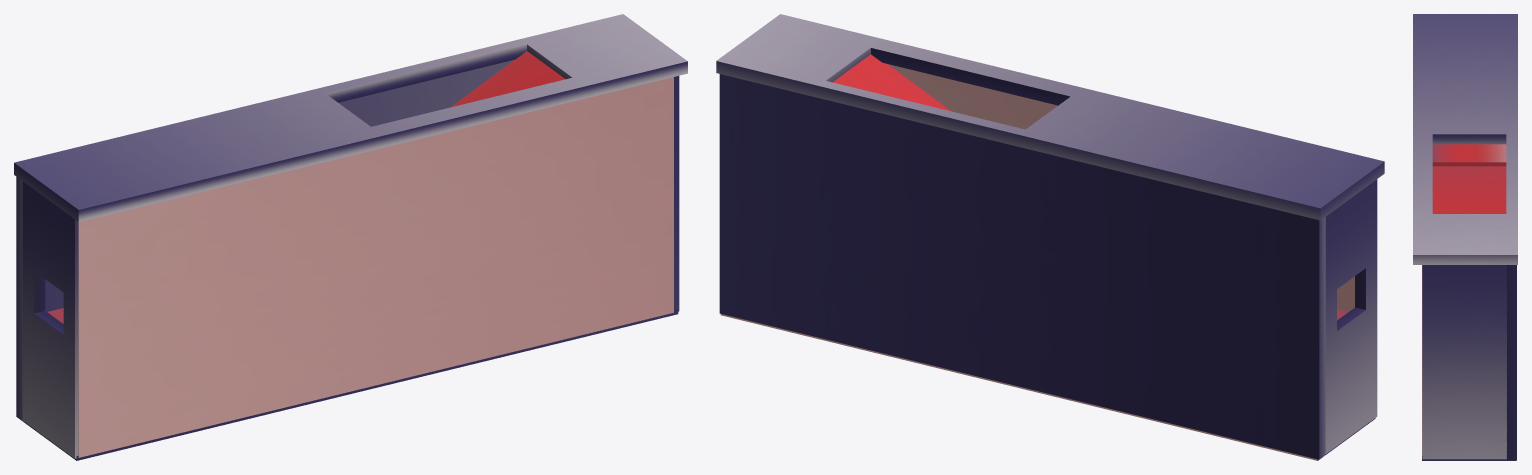
Rendered from SM_bookshelfLvl1.fbx.
The picture shows the model from 3 angles, left to right: view 1: azimuth 30°, elevation 25°; view 2: azimuth 150°, elevation 25°; view 3: azimuth 270°, elevation 25°; orthographic projection. The views are drawn at different scales.
Parts seen in each view (by area): view 1: glass, bookshelf_top, bookShelf_R, bookShelf_back, bookshelf_shelf3, bookshelf_bottom, bookShelf_L; view 2: bookShelf_back, bookshelf_top, bookShelf_R, glass, bookshelf_shelf3, bookshelf_bottom; view 3: bookshelf_top, bookShelf_L, bookshelf_shelf1, bookShelf_back, bookshelf_shelf2, glass, bookshelf_bottom.
Part boxes in pixels (box(x1,y1,x2,y2)): glass: box(78, 77, 673, 457); bookshelf_top: box(14, 14, 687, 221); bookShelf_R: box(22, 181, 78, 458); bookShelf_back: box(16, 59, 514, 421); bookshelf_shelf3: box(451, 51, 565, 107); bookshelf_bottom: box(23, 309, 678, 460); bookShelf_L: box(674, 76, 679, 311); bookShelf_back: box(719, 74, 1325, 459); bookshelf_top: box(716, 14, 1384, 220); bookShelf_R: box(1325, 179, 1377, 453); glass: box(888, 64, 1354, 311); bookshelf_shelf3: box(832, 54, 950, 111); bookshelf_bottom: box(720, 314, 1375, 460); bookshelf_top: box(1413, 14, 1517, 264); bookShelf_L: box(1422, 265, 1506, 459); bookshelf_shelf1: box(1432, 166, 1506, 213); bookShelf_back: box(1506, 265, 1516, 459); bookshelf_shelf2: box(1432, 144, 1506, 166); glass: box(1422, 265, 1422, 454); bookshelf_bottom: box(1422, 455, 1516, 460).
Size of the model in its own units: 3028 by 1216 by 557.
